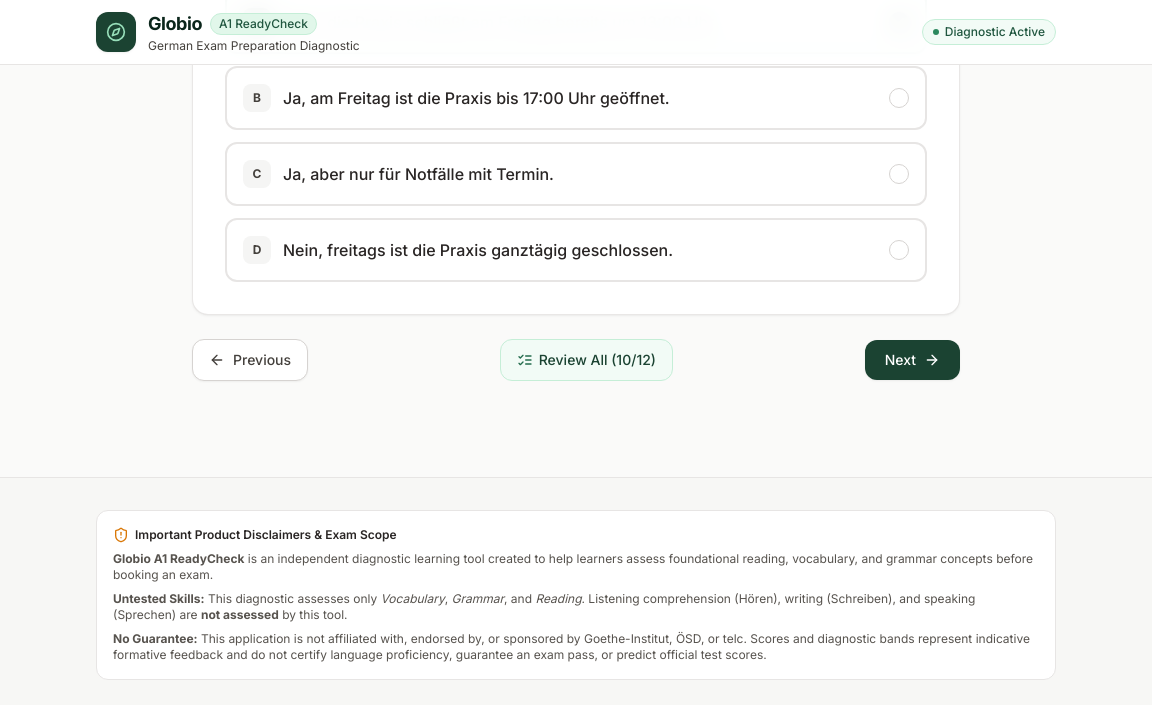
Test: Assessment Flow Integration Tests › allows complete 12-question submission and resets cleanly on Retake
Earlier steps of the test are not shown.
Later steps or results of the test are not shown.
(page scrolled)
Click the button "Next" at (912, 360), box [865,340,960,380]
(page scrolled)
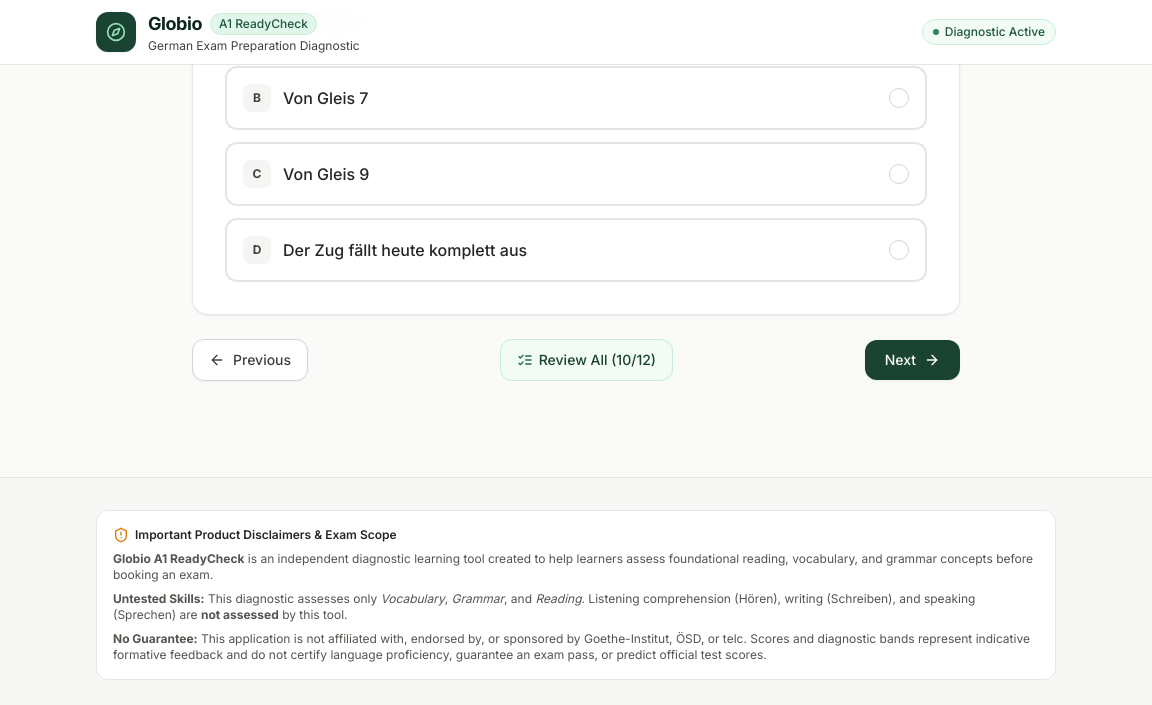
Click the text "Von Gleis 9" at (326, 174), box [283,162,369,186]
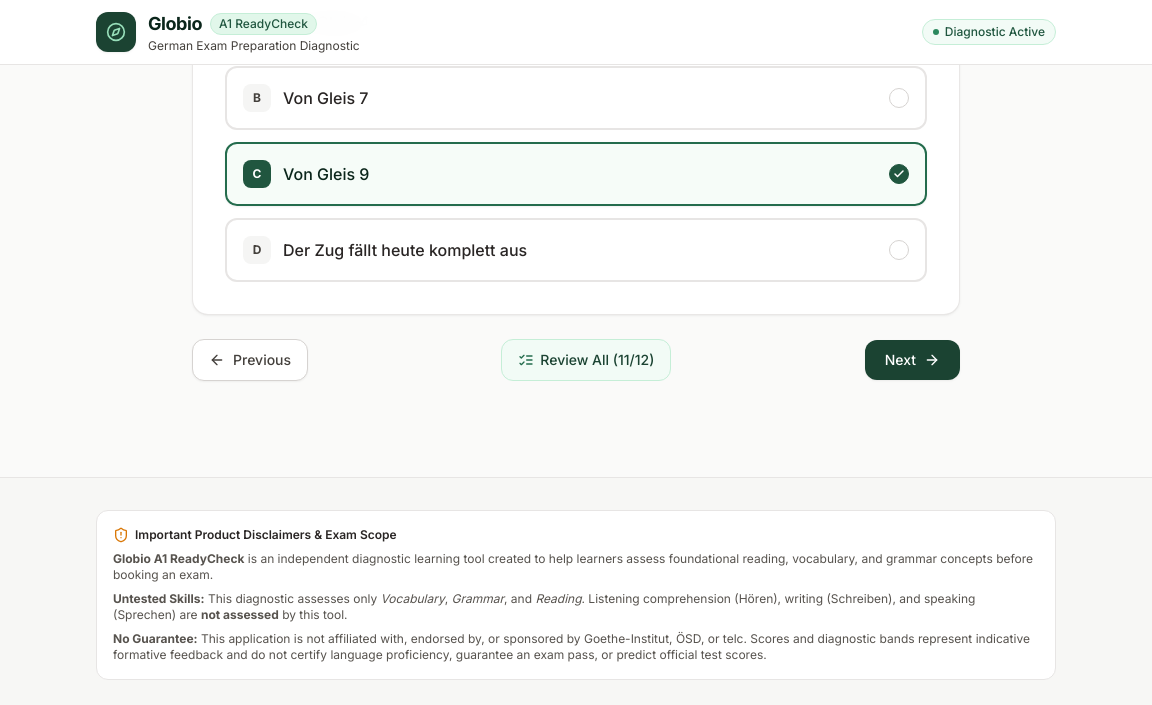
Click the button "Next" at (912, 360), box [865,340,960,380]
(page scrolled)
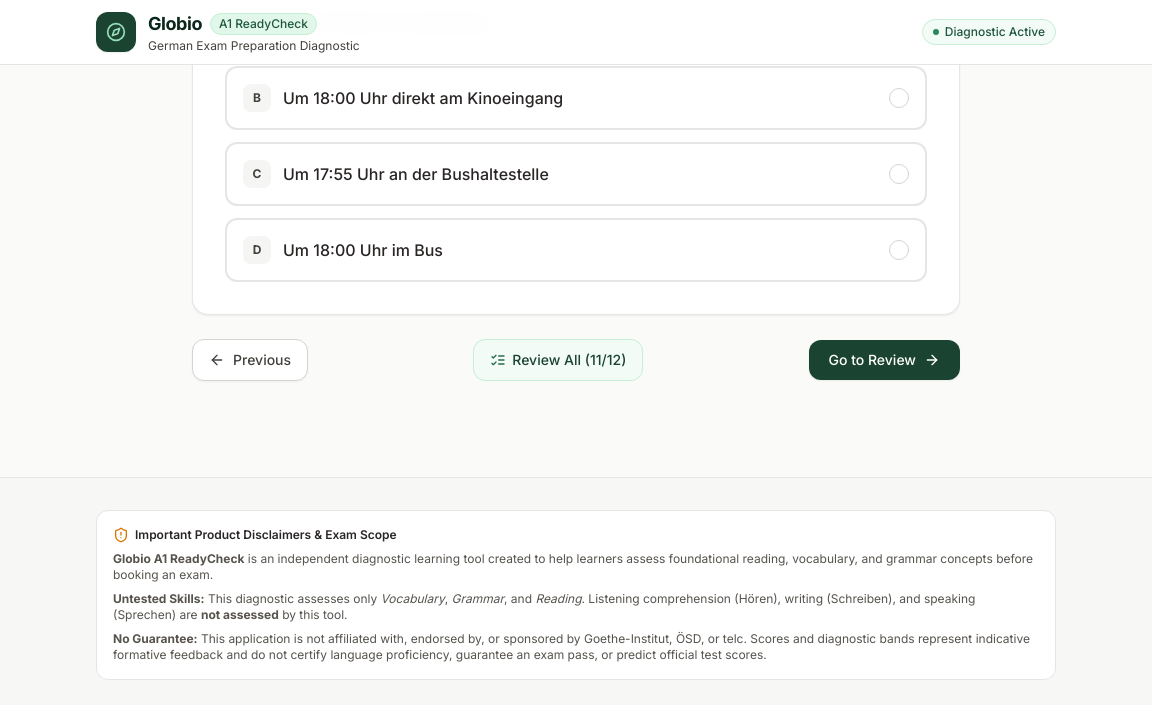
Click the text "Um 18:00 Uhr direkt am Kinoeingang" at (423, 98), box [283,86,563,110]
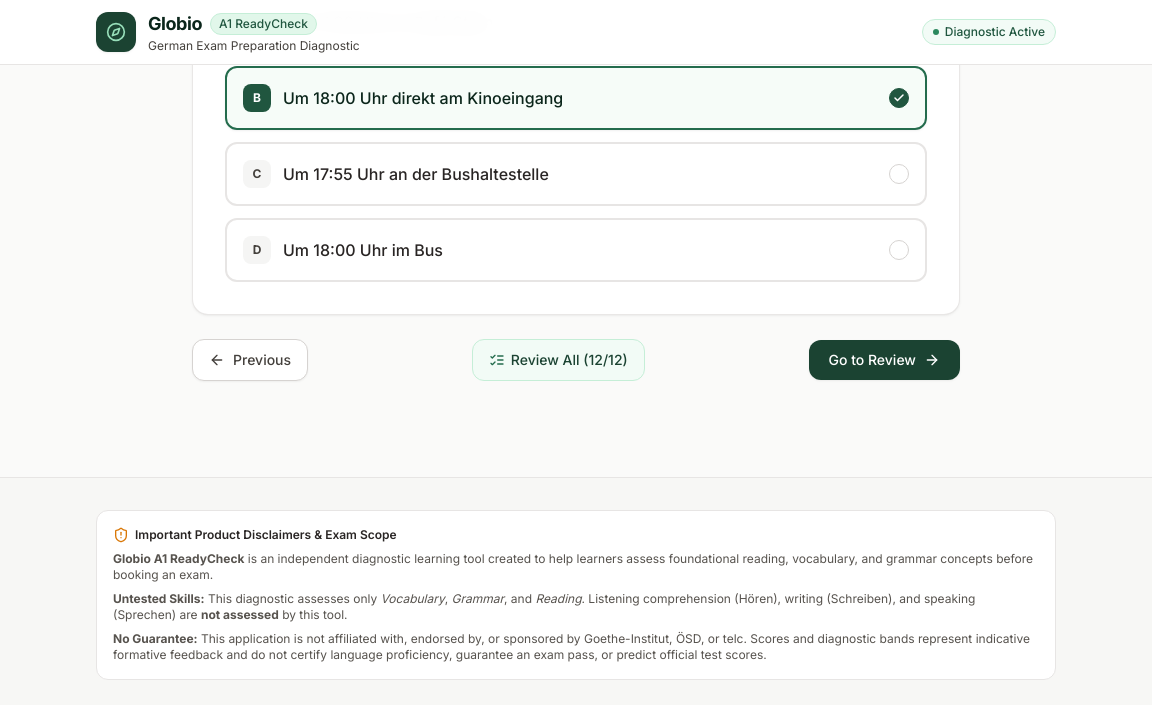
Click the button "Go to Review" at (884, 360), box [808,340,960,380]
(page scrolled)
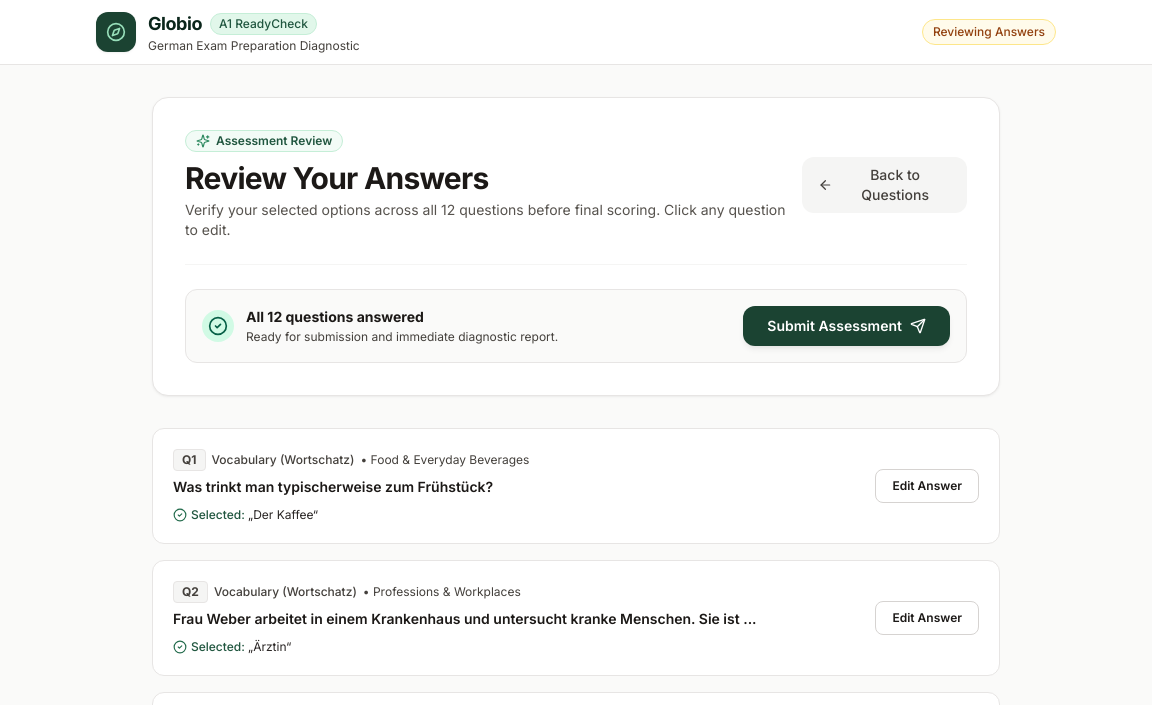
Check: the button "Submit Assessment" is enabled, box [743,306,950,346]
